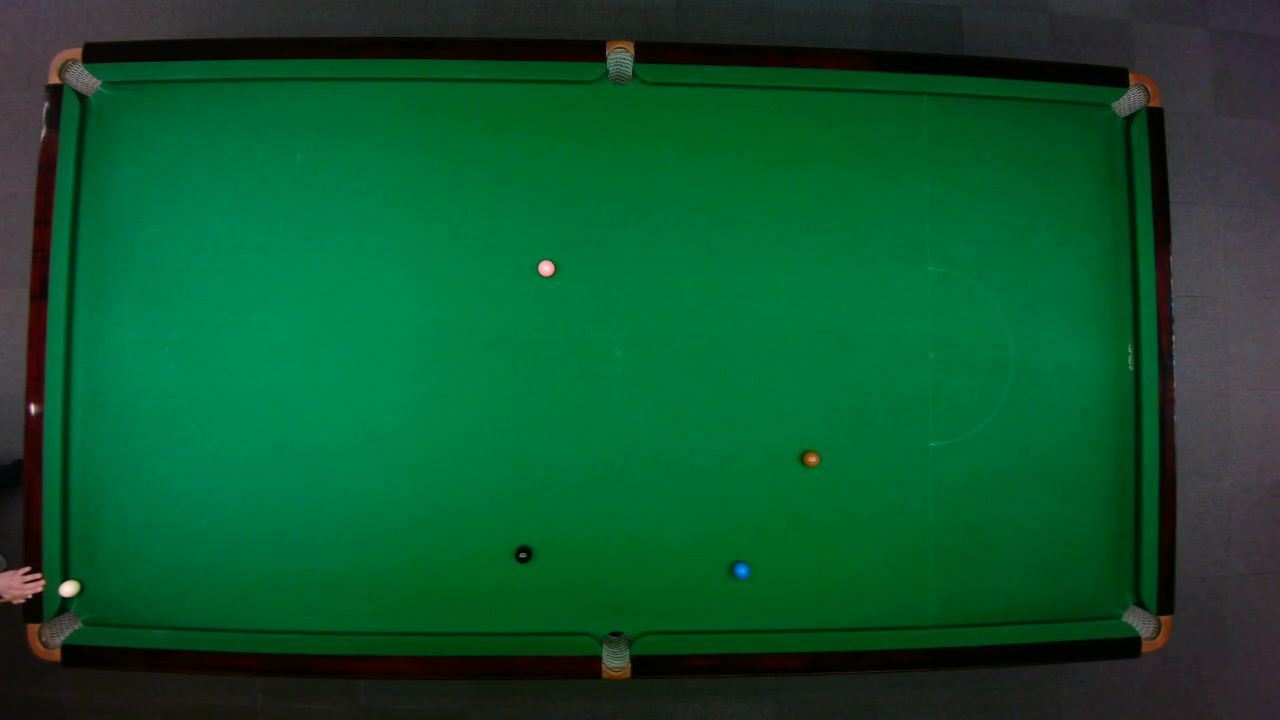bag: (25, 609, 84, 661), (45, 46, 102, 96), (1119, 603, 1171, 652), (1108, 71, 1162, 117), (600, 629, 630, 680), (605, 38, 633, 85)
black: (513, 544, 532, 563)
blue: (732, 561, 750, 579)
brown: (801, 450, 820, 467)
pink: (536, 258, 555, 277)
white: (56, 577, 82, 597)
zone: (927, 265, 1013, 445)
